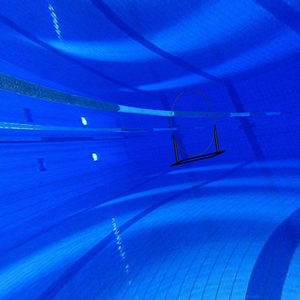circle: (164, 84, 232, 169)
